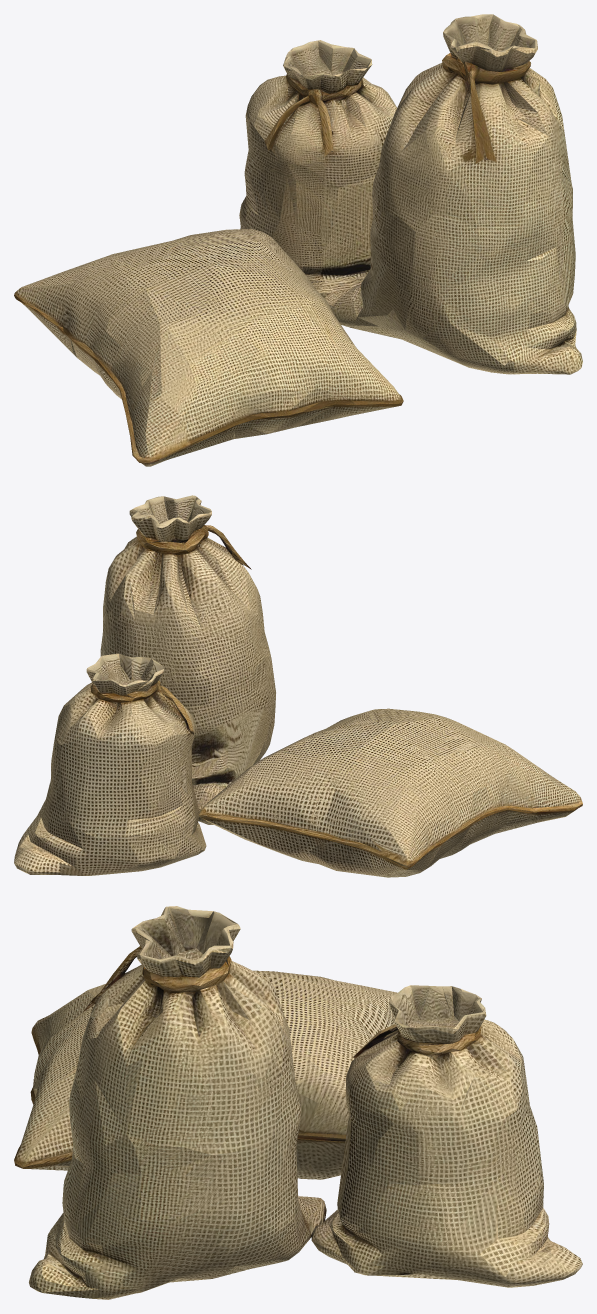
Rendered from sacks.glb.
3 renders of one model, top to bottom at view 1: azimuth 30°, elevation 25°; view 2: azimuth 150°, elevation 25°; view 3: azimuth 270°, elevation 25°, orthographic. The views are drawn at different scales.
Size of the model in its own units: 1.24 by 0.75 by 1.1.
Materials: 1 (1 with a texture image).
